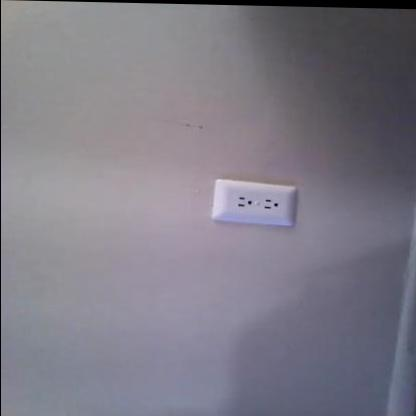OUTLET: (213, 179, 295, 227)
